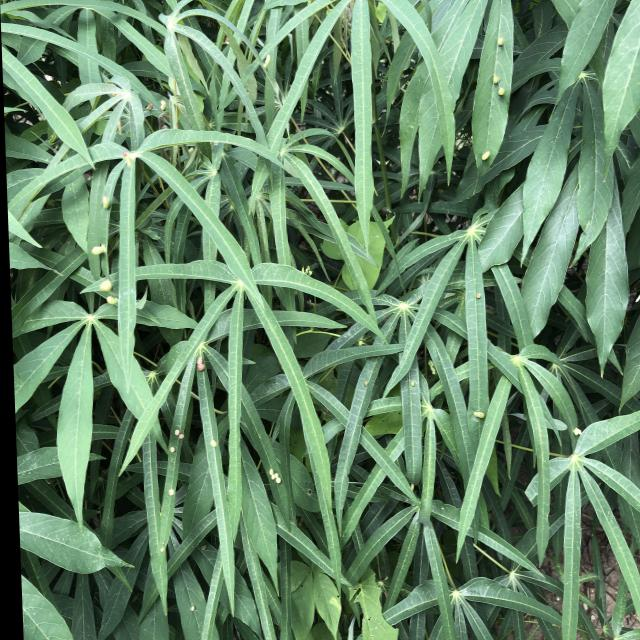Mosca: (92, 278, 134, 318), (257, 450, 290, 489), (180, 341, 210, 381), (164, 421, 190, 466), (559, 412, 588, 448), (464, 396, 490, 433), (138, 92, 166, 124), (467, 143, 499, 169), (482, 68, 506, 101), (206, 434, 232, 464), (355, 367, 380, 396), (152, 479, 183, 502), (86, 236, 110, 264), (255, 47, 275, 80), (473, 289, 497, 316), (490, 26, 512, 53), (406, 374, 430, 398), (97, 185, 117, 213), (180, 599, 206, 616)
